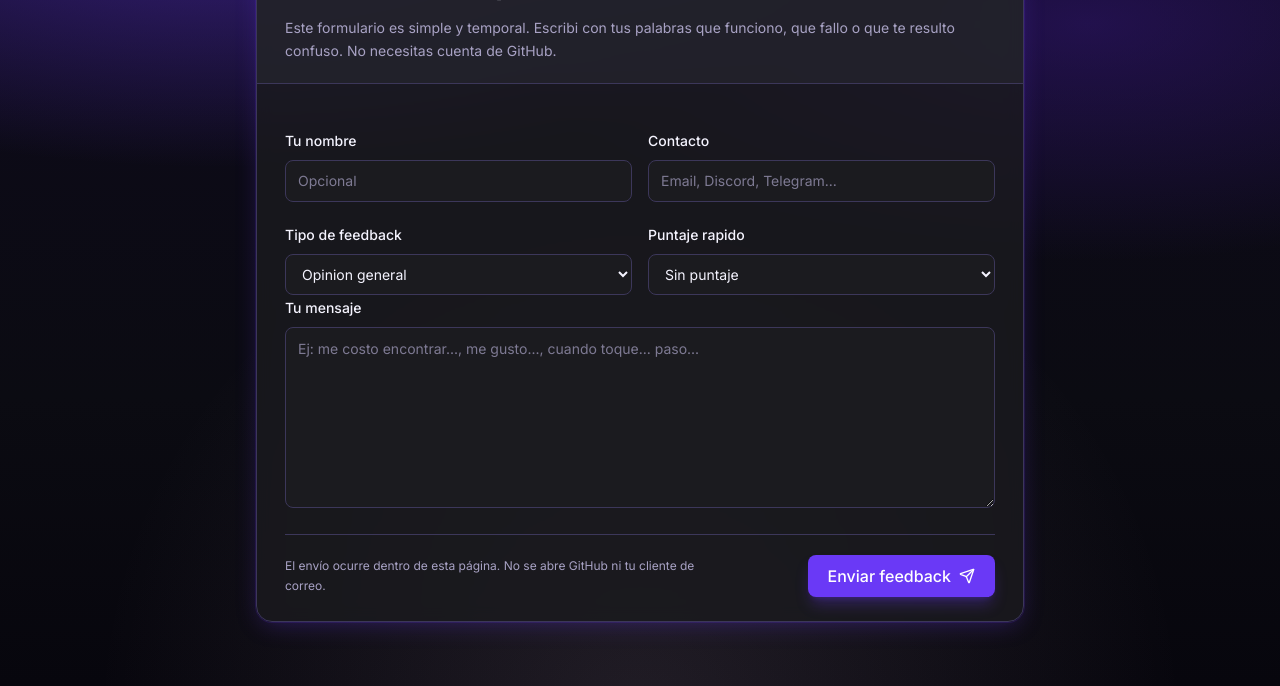
Scenario: FeedbackPage › does not submit when the endpoint is missing
(page scrolled)
Replace the text in the text box labelled "Tu mensaje" with "La app se entiende bien." at (640, 417), box x1=285 y1=326 x2=995 y2=508
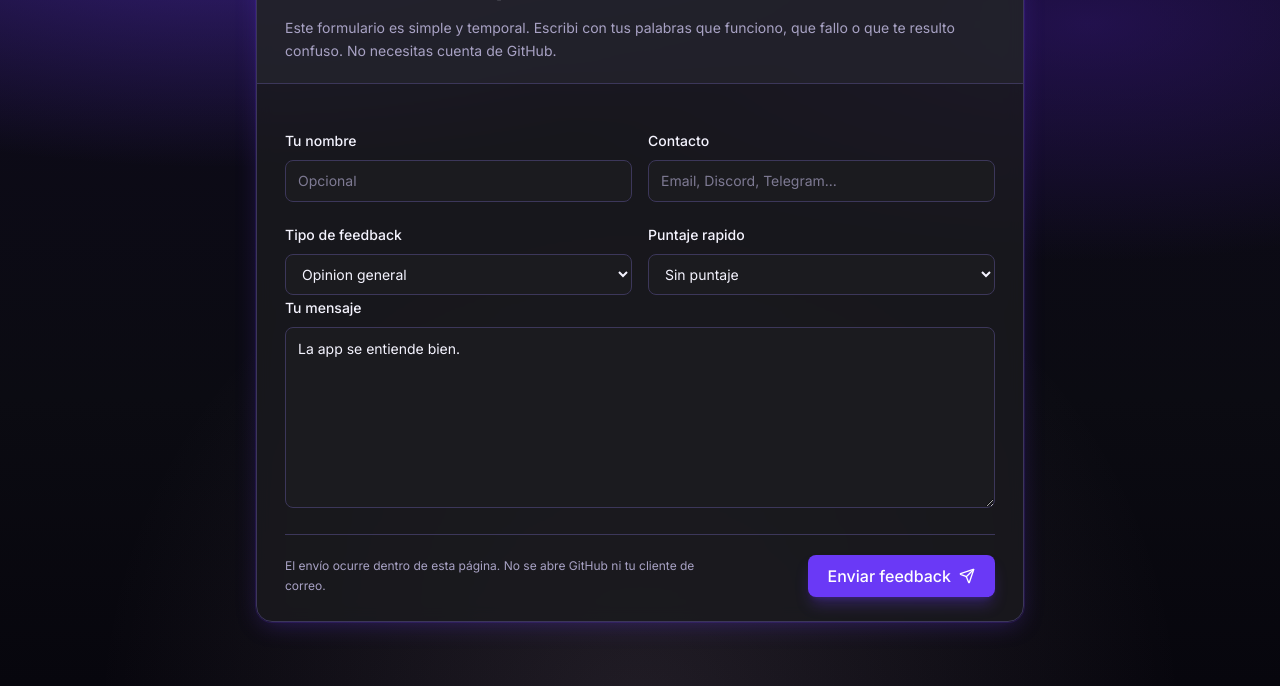
Submit the form named "formulario de feedback beta", box x1=257 y1=84 x2=1023 y2=621
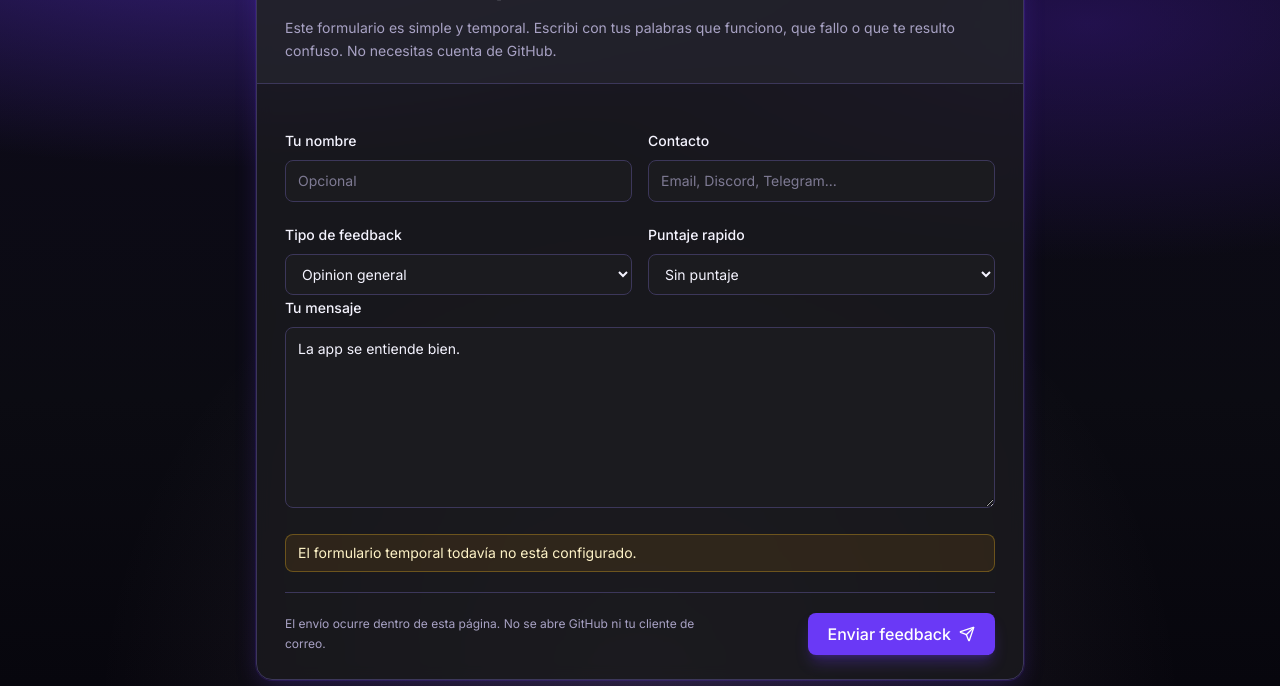
Check: the text "El formulario temporal todavía no está configurado." is shown, box x1=285 y1=534 x2=995 y2=572
